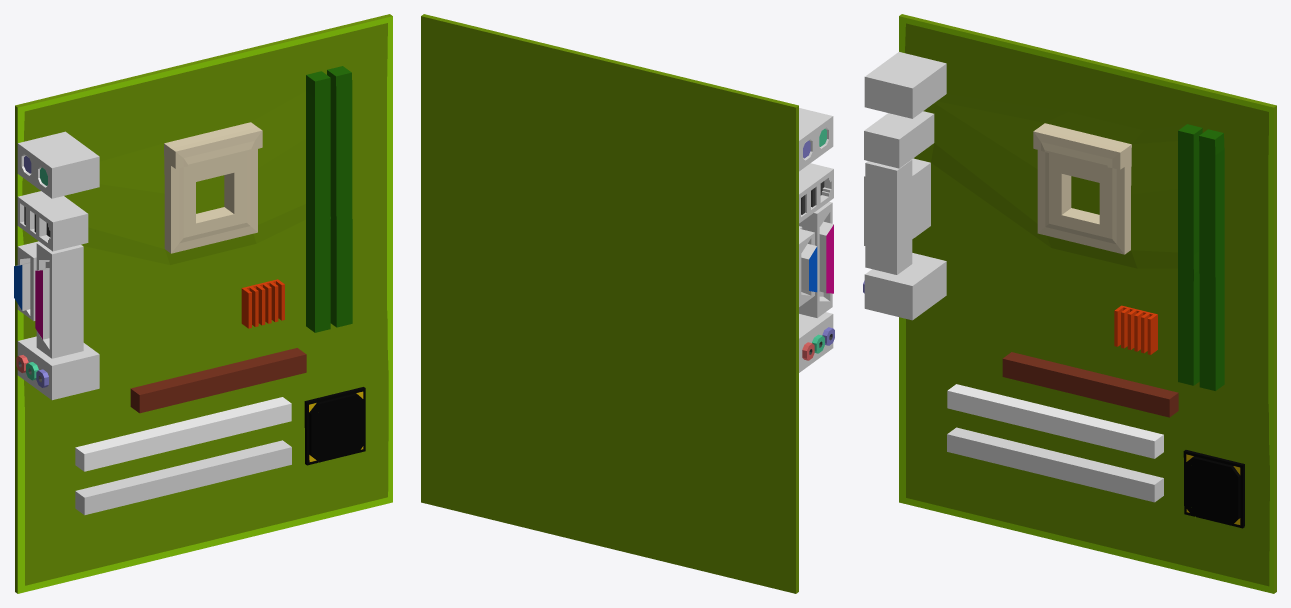
Rendered from mobo_socket-A_2-amd.fbx.
3 views of the same model, side by side, from view 1: azimuth 30°, elevation 25°; view 2: azimuth 150°, elevation 25°; view 3: azimuth 330°, elevation 25° (orthographic).
Visible parts, largest first — view 1: Plane, Plane.001; view 2: Plane; view 3: Plane, Plane.001.
Part boxes in pixels (x1,y1,x2,y2): Plane: (14,14,392,593); Plane.001: (241,279,284,328); Plane: (421,14,834,593); Plane: (863,14,1276,593); Plane.001: (1114,305,1157,354).
Size of the model in its own units: 160 by 195 by 27.57.
